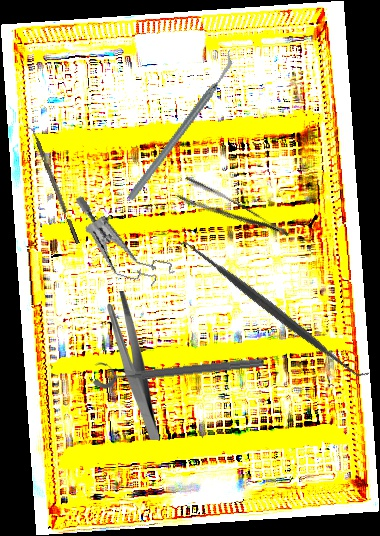Chopper: (90, 50, 271, 202), (24, 122, 80, 247)
Dressing Forceps: (174, 174, 292, 255), (107, 291, 160, 440)
Fixation Ring: (91, 344, 265, 390)
Spatula Surgical: (175, 229, 372, 390)
Speculum: (57, 193, 190, 295)
